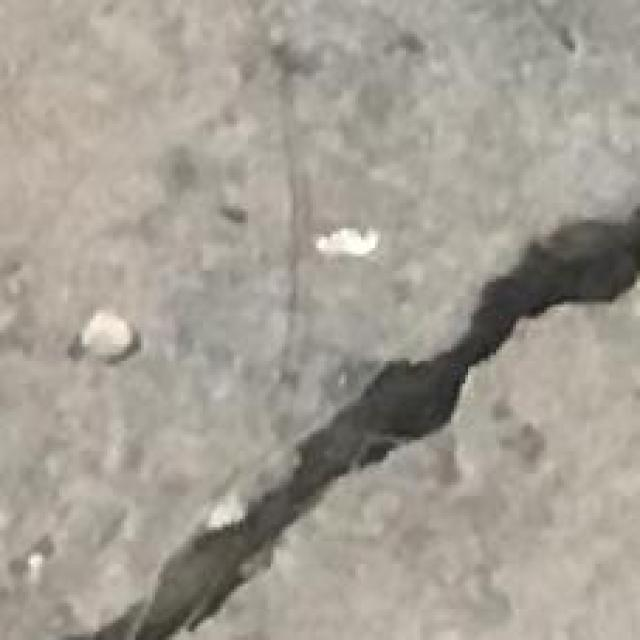diagonal crack: (69, 208, 639, 639)
